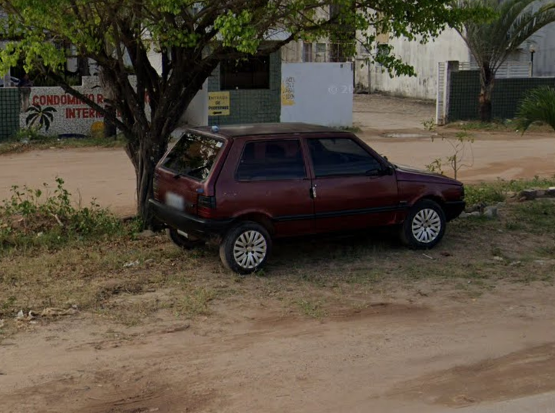car: (144, 118, 469, 277)
